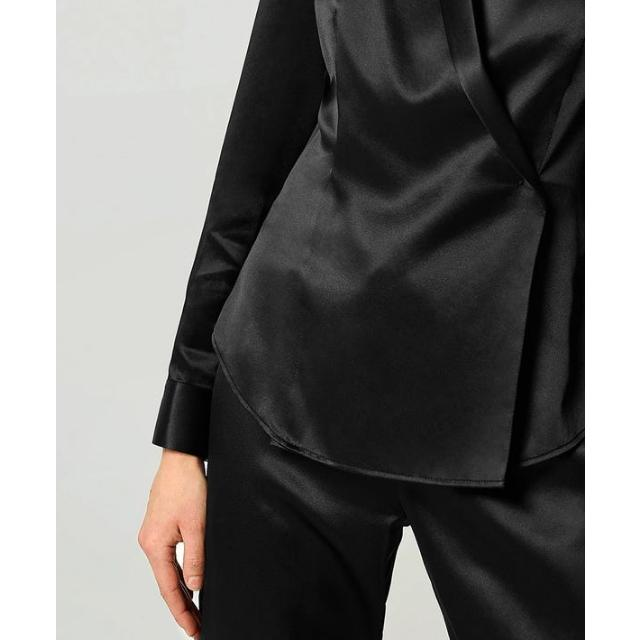silk: (173, 0, 585, 640)
